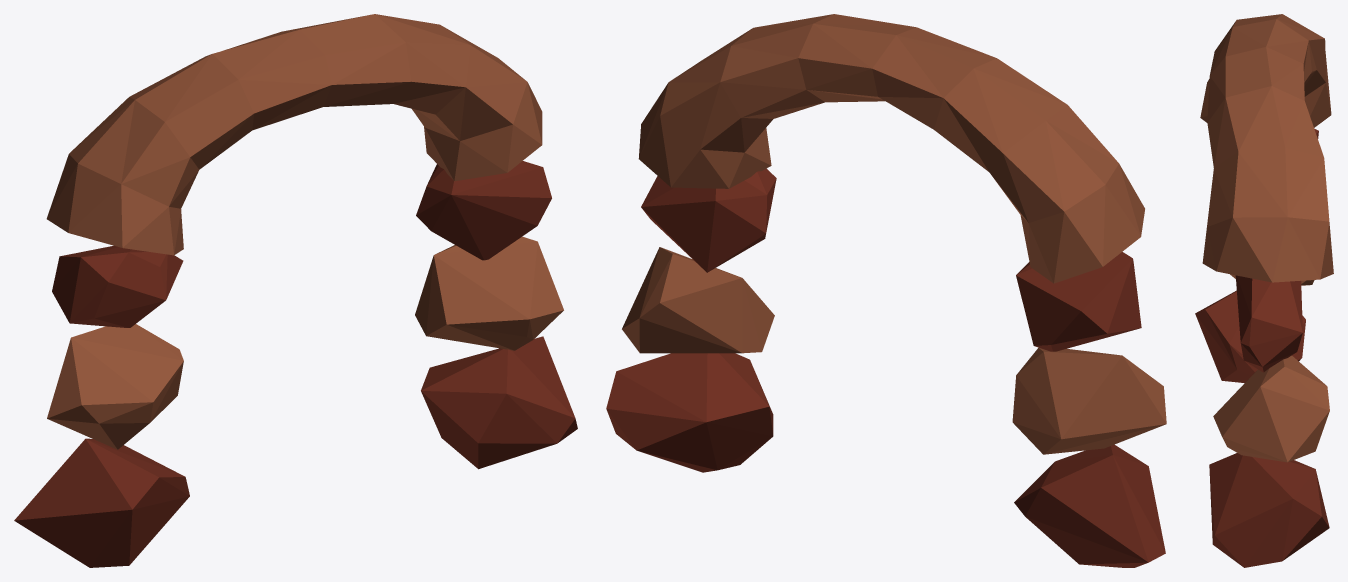
Rendered from arco_roca.fbx.
3 renders of one model, left to right at view 1: azimuth 30°, elevation 25°; view 2: azimuth 150°, elevation 25°; view 3: azimuth 270°, elevation 25°, orthographic. The views are drawn at different scales.
Visible parts, largest first — view 1: arco_roca; view 2: arco_roca; view 3: arco_roca.
Boxes of the visible parts, x1,y1,x2,y2 form: arco_roca: (14, 14, 577, 567); arco_roca: (606, 14, 1166, 567); arco_roca: (1195, 14, 1333, 567).
Size of the model in its own units: 16.08 by 13.58 by 4.01.
